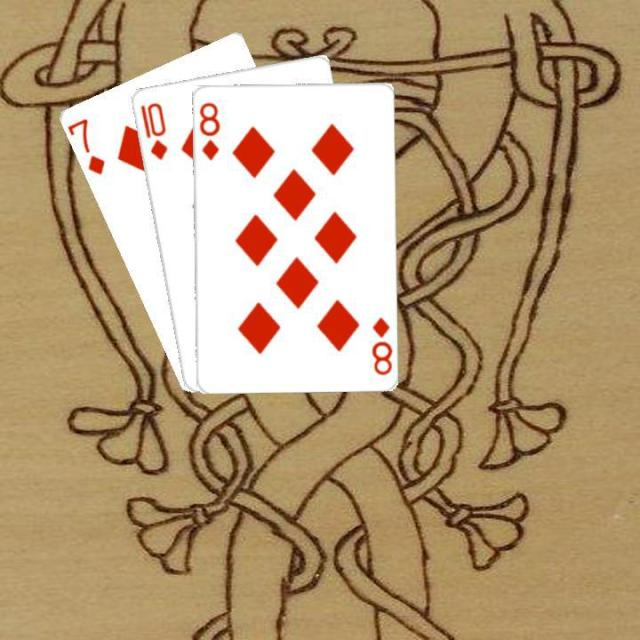10D: (136, 98, 169, 161)
7D: (65, 114, 107, 177)
8D: (196, 98, 222, 162), (367, 312, 392, 376)
